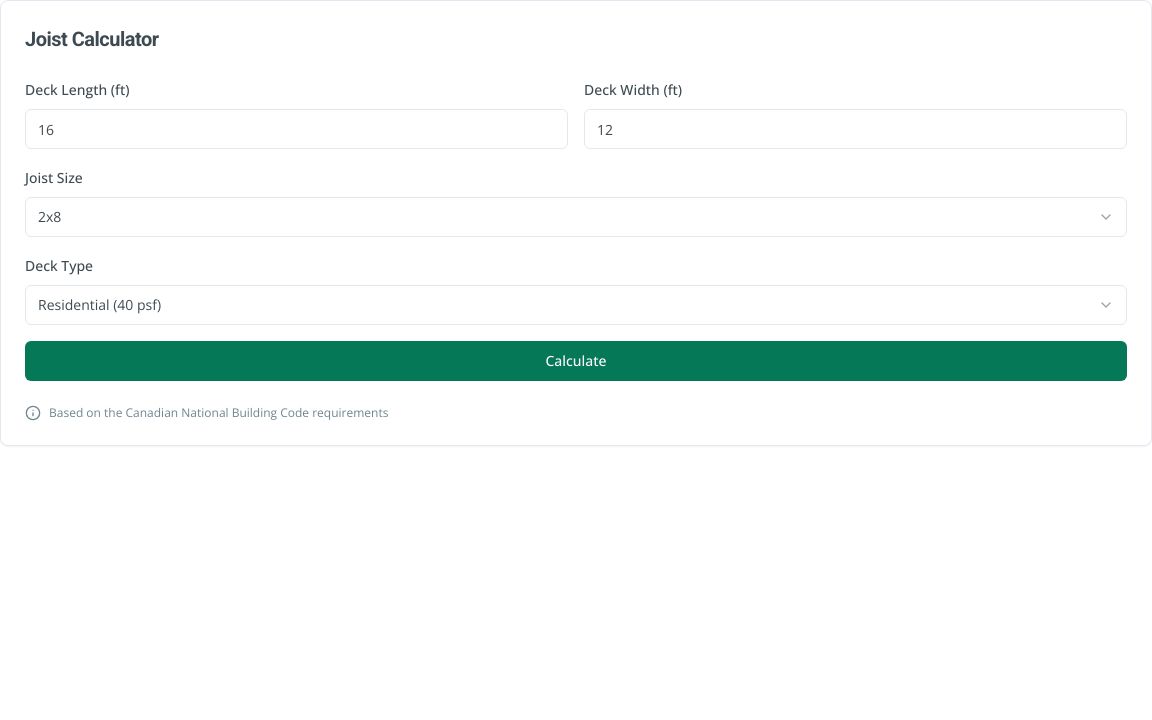
Test: JoistCalculator › scales the joist count and total length with a larger residential deck
This screenshot has width=1152, height=720.
Replace the text in the number field labelled "Deck Length (ft)" with "20" at (296, 129), box [25,109,568,149]
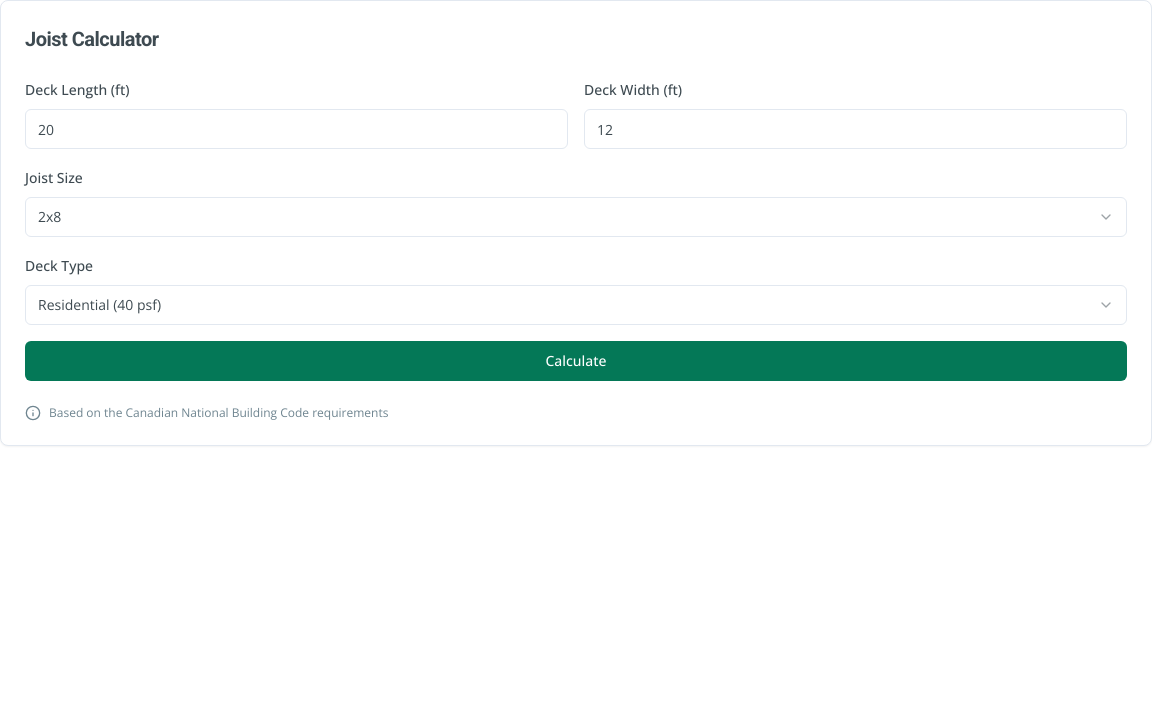
Replace the text in the number field labelled "Deck Width (ft)" with "10" at (856, 129), box [584,109,1127,149]
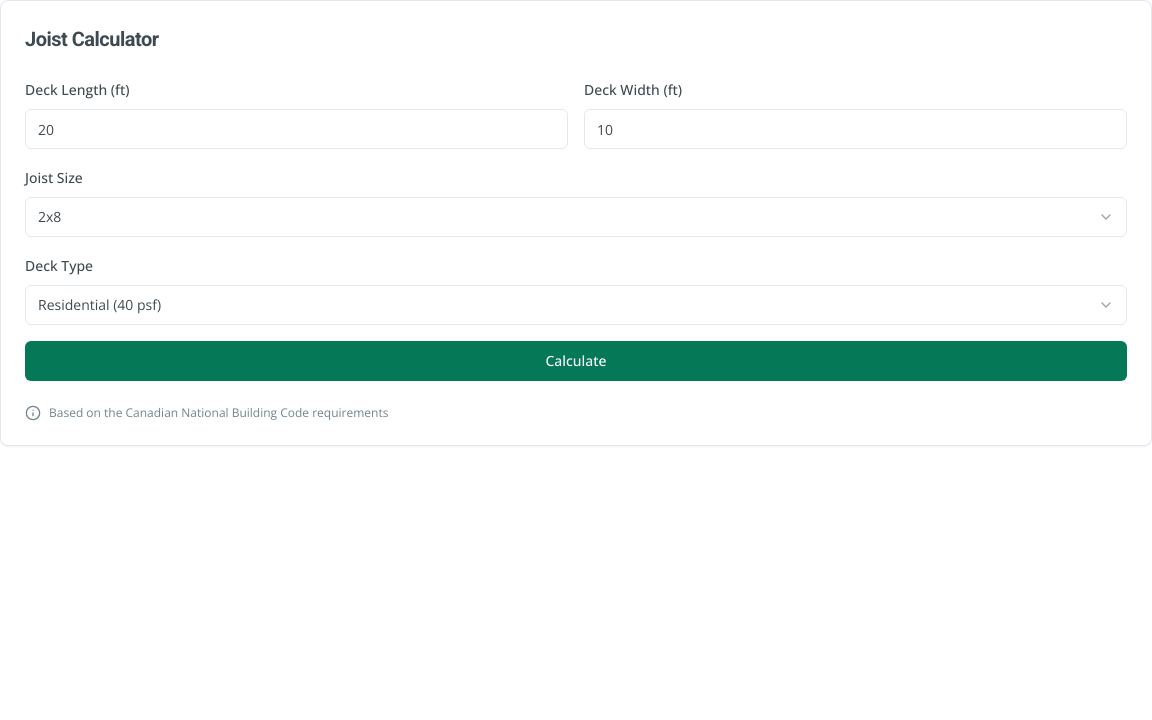
Click the button "Calculate" at (576, 361), box [25,341,1127,381]
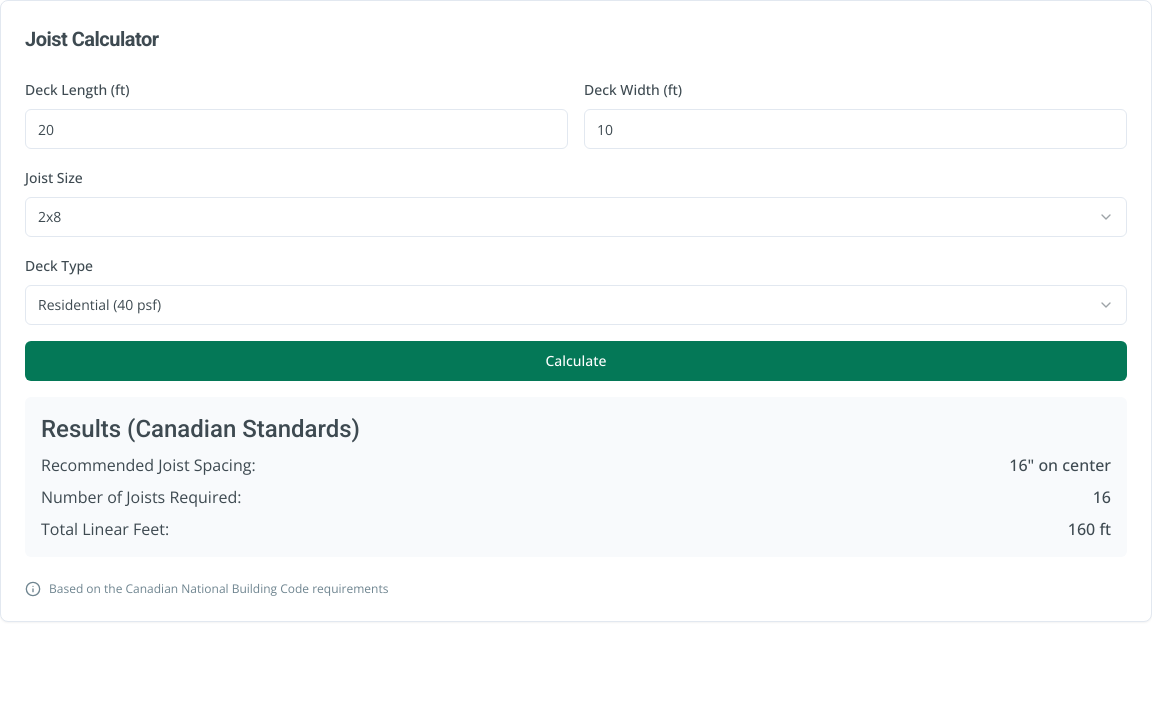
Now the text "16\" on center" is shown, box [1009,453,1111,477]
Now the text "16" is shown, box [1093,485,1111,509]
Now the text "160 ft" is shown, box [1068,517,1111,541]
